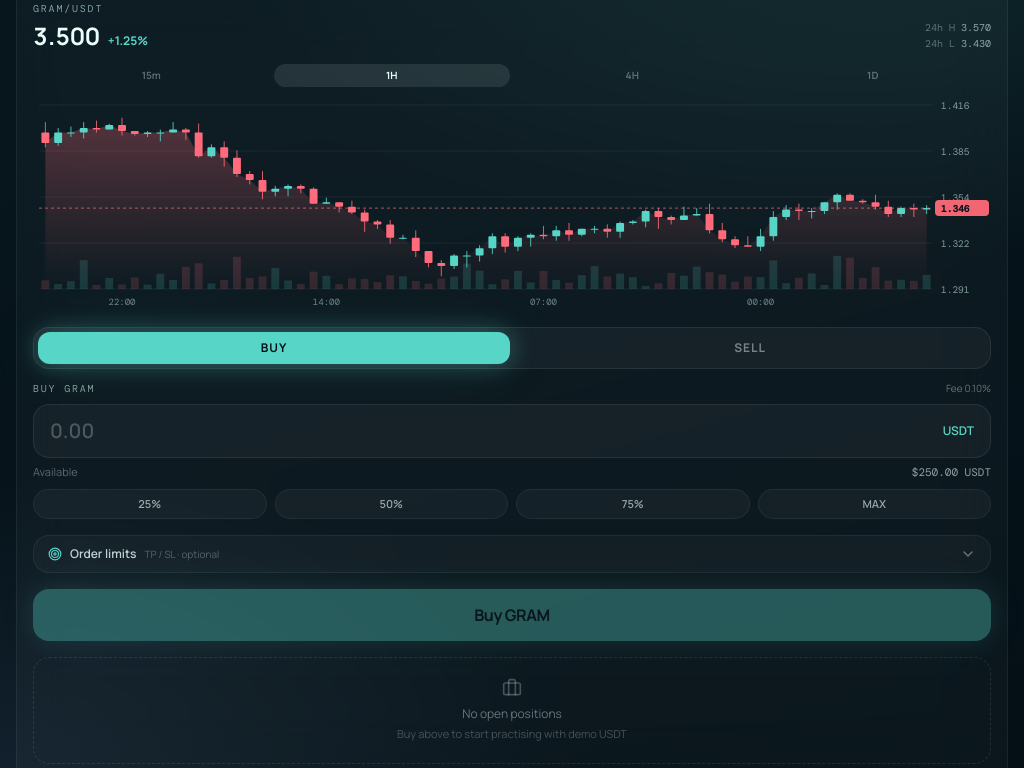
selling › switching back to Buy restores the amount field and the bracket
(page scrolled)
Expected: the element with test id "trade-side-toggle" is shown, top-left (33, 327), bottom-right (991, 369)
Click the button with test id "trade-side-sell" at (750, 348), box top-left (514, 332), bottom-right (986, 364)
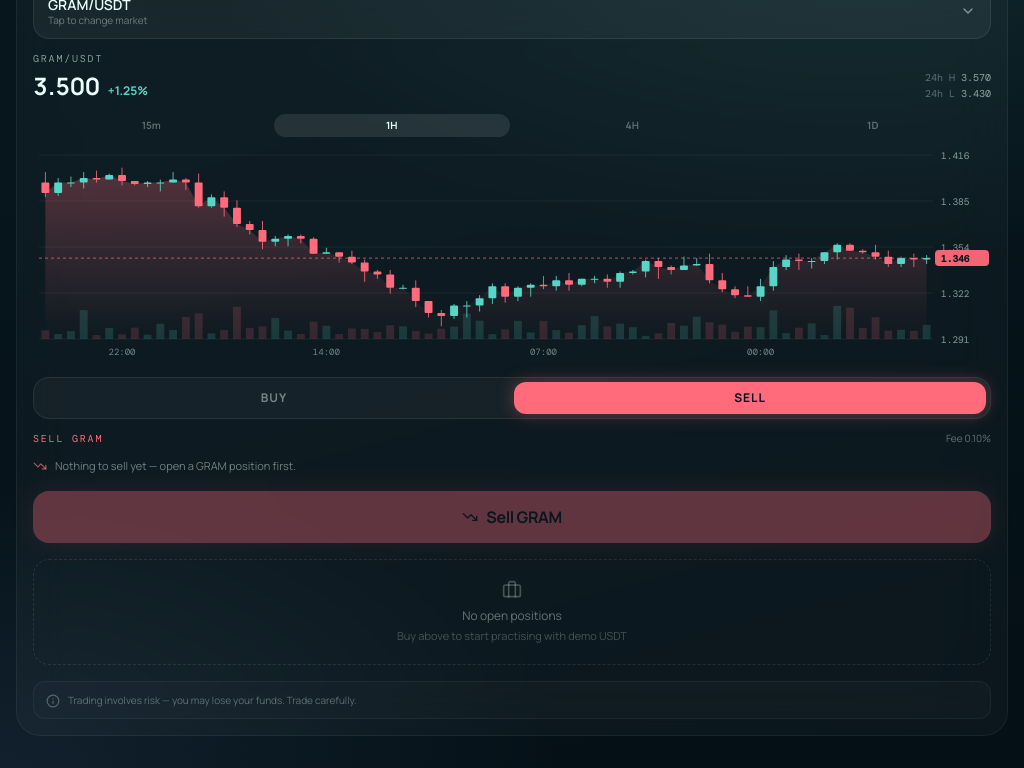
Now the number field with test id "trade-amount-input" is gone
Click the button with test id "trade-side-buy" at (274, 398), box top-left (38, 382), bottom-right (510, 414)
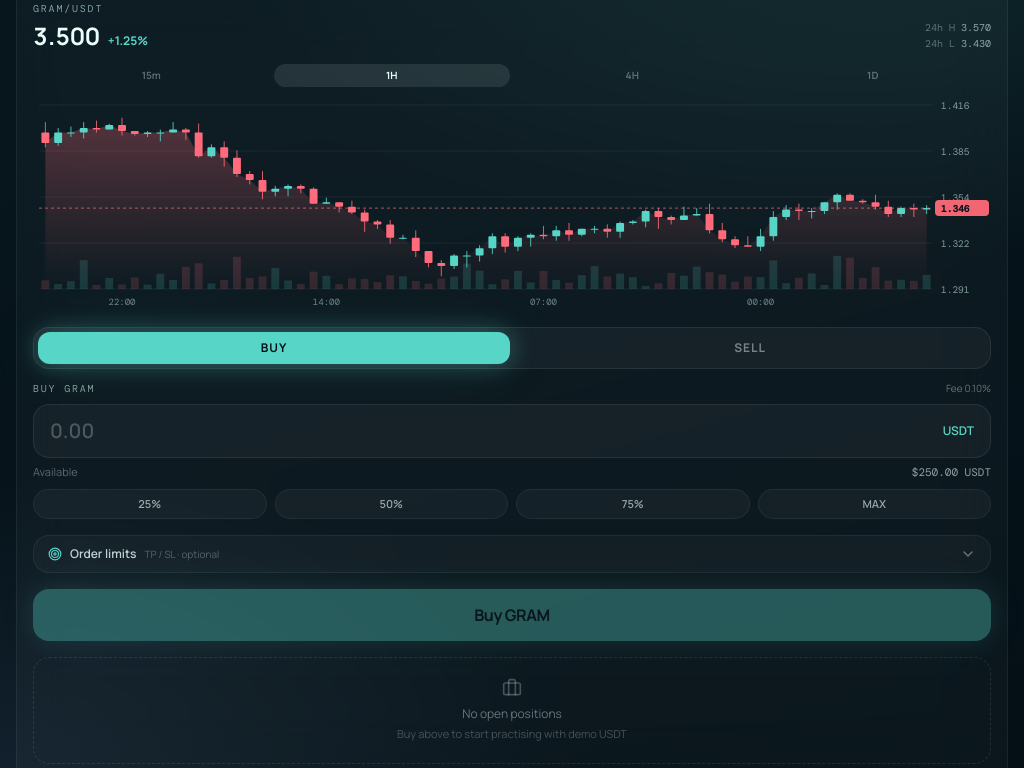
Now the number field with test id "trade-amount-input" is shown, box top-left (50, 417), bottom-right (935, 445)
Now the text with test id "trade-available-value" shows "$250.00", box top-left (912, 465), bottom-right (958, 479)
Now the button with test id "trade-limits-toggle" is shown, box top-left (33, 535), bottom-right (991, 573)
